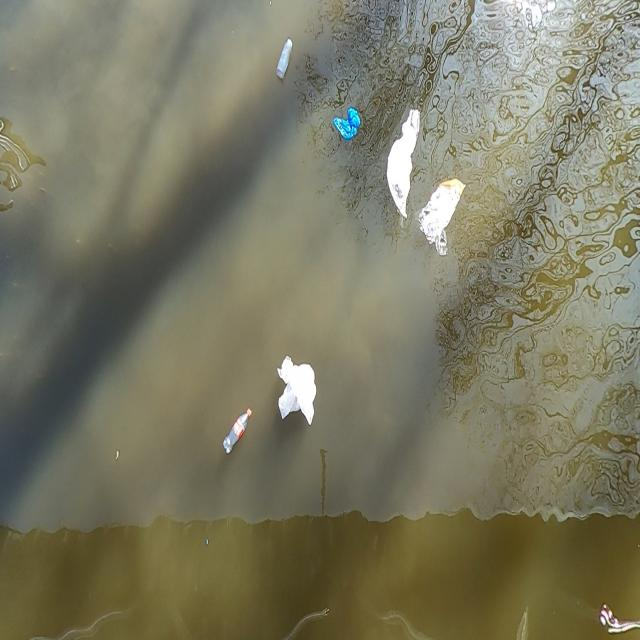Bouteille plastique: (222, 403, 255, 468), (276, 35, 295, 89)
